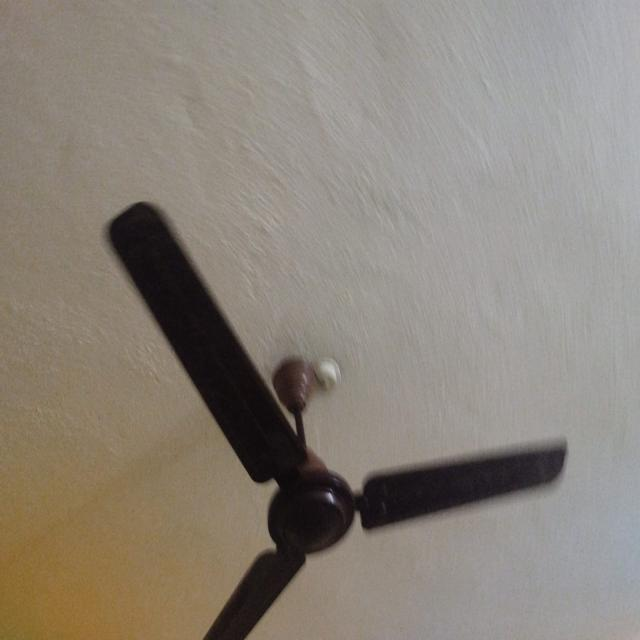fan_off: (104, 197, 572, 640)
